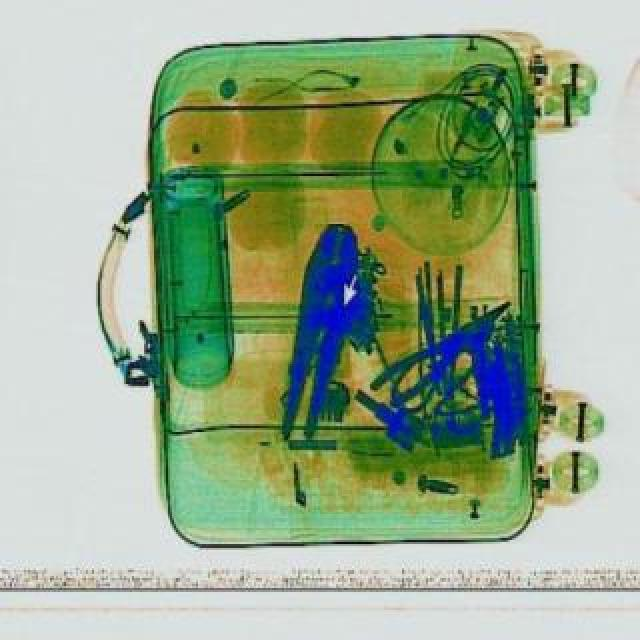wrench: (270, 224, 372, 448), (366, 290, 524, 418)
